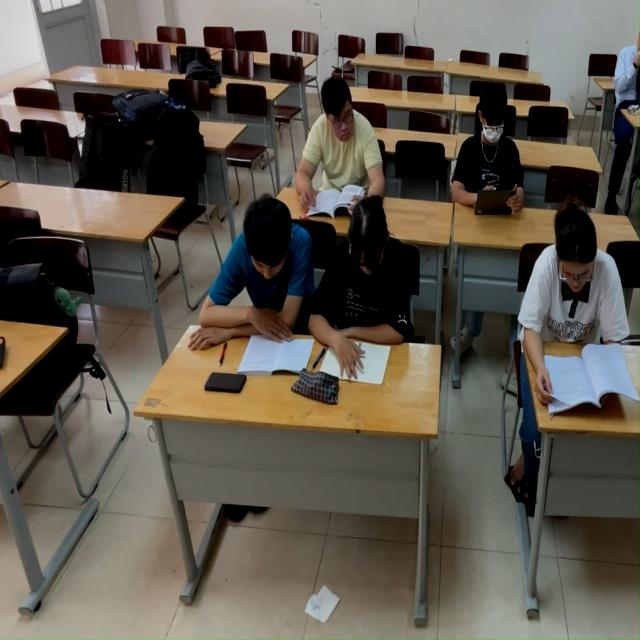read: (543, 204, 640, 424), (221, 199, 318, 375), (339, 206, 416, 400), (458, 89, 534, 231), (302, 82, 384, 199)
